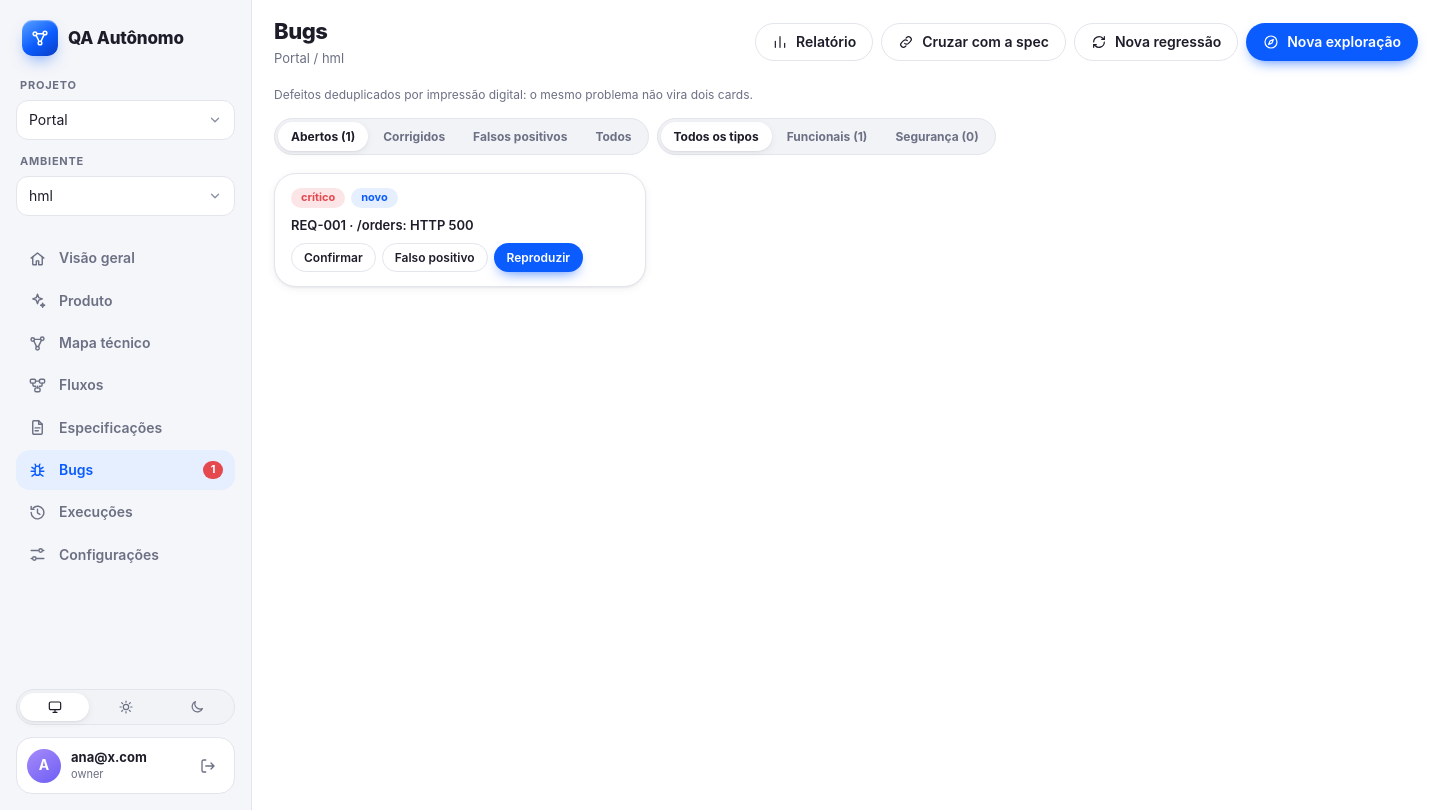
Test: relatório geral › abre de qualquer página, mostra os pontos de atenção e a prontidão
Click the button "Relatório".
click(814, 42)  # box [755,23,873,61]
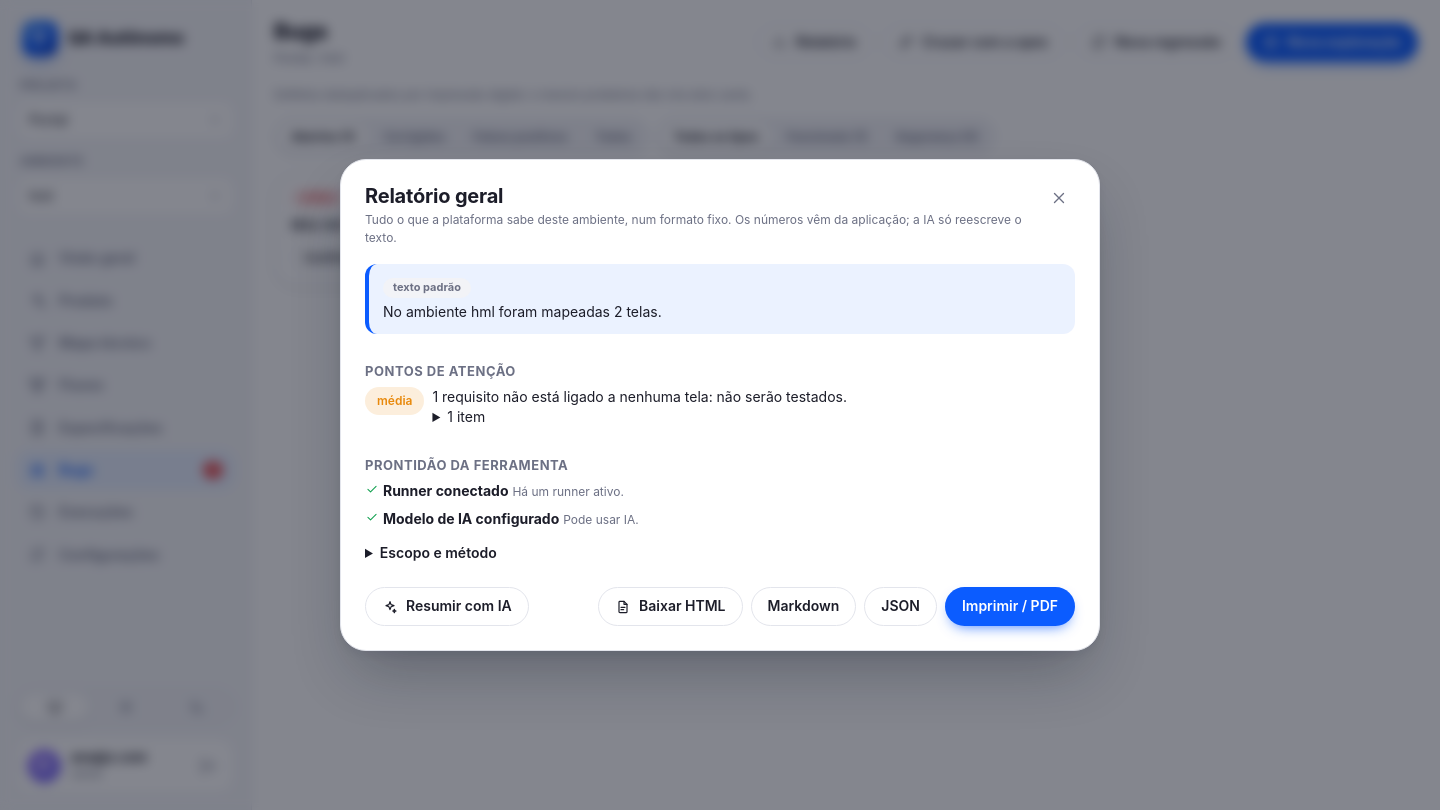
Expected: the text "No ambiente hml foram mapeadas 2 telas." is shown, [383,303,662,320]
Expected: the text "texto padrão" is shown, [383,278,471,298]
Expected: the text "1 requisito não está ligado a nenhuma tela" is shown, [432,388,847,405]
